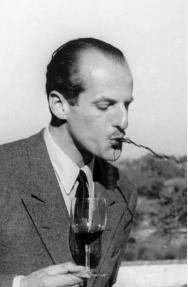Spitting: (37, 28, 160, 175)
